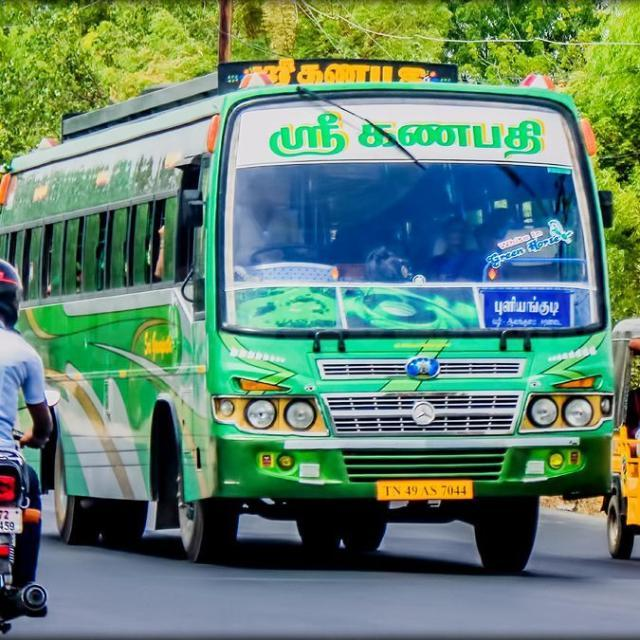Bus: (1, 48, 619, 576)
